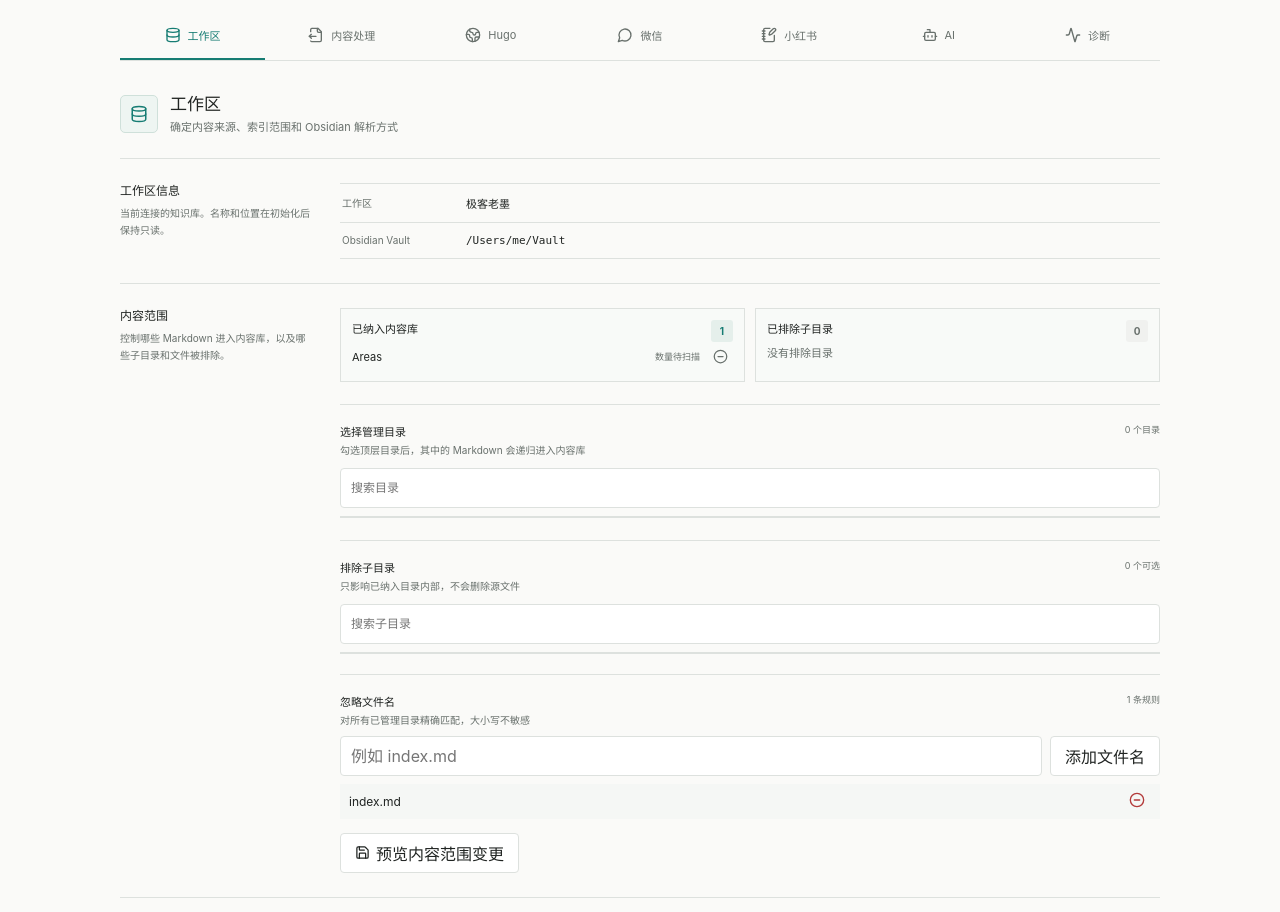
Test: AI 设置保存到 Provider 且不要求重新输入已有 Secret
Expected: the text "极客老墨" is shown, [466, 197, 510, 211]
Click the tab "AI": point(938, 36) [866, 12, 1011, 60]
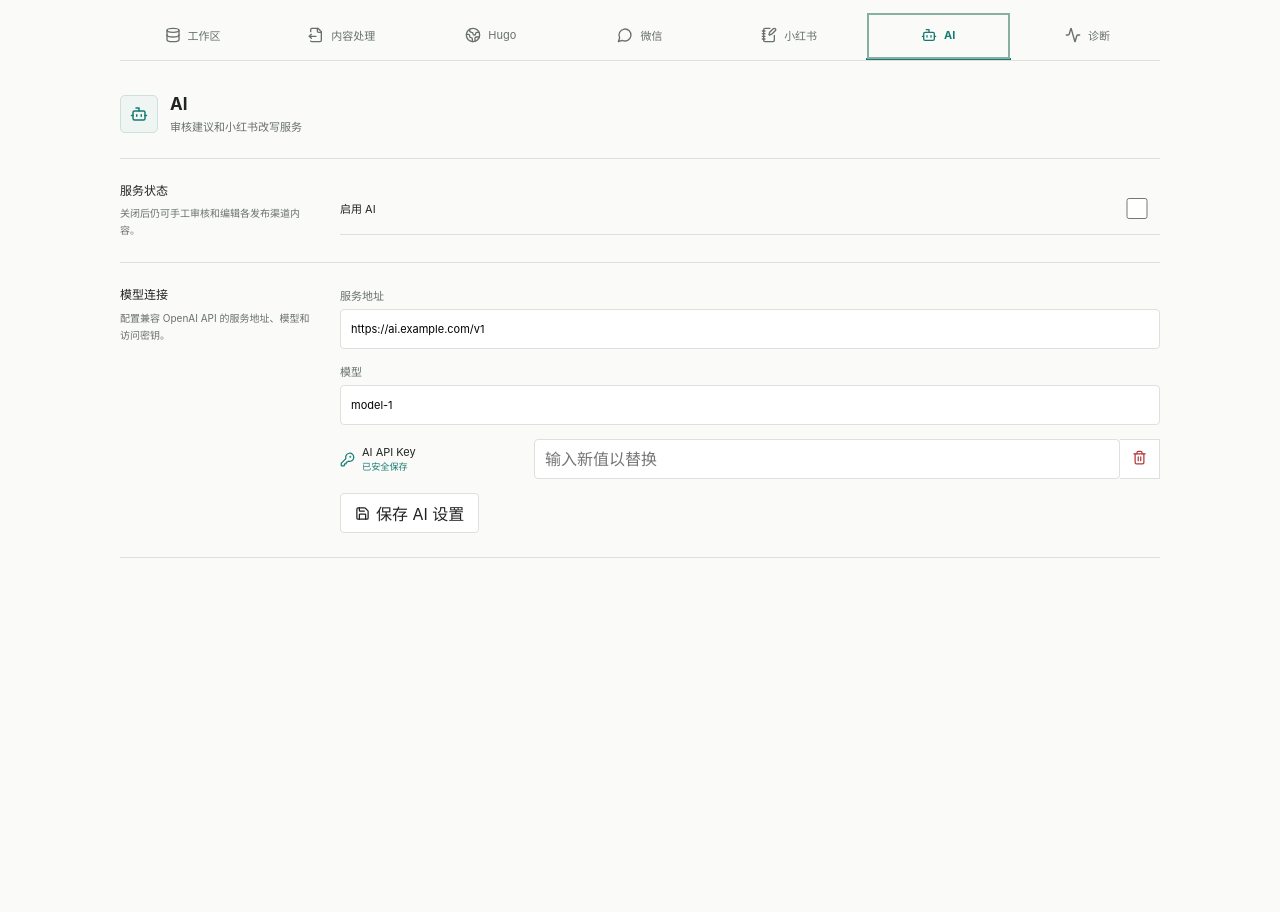
Click the checkbox labelled "启用 AI": point(1137, 208) [1117, 198, 1157, 219]
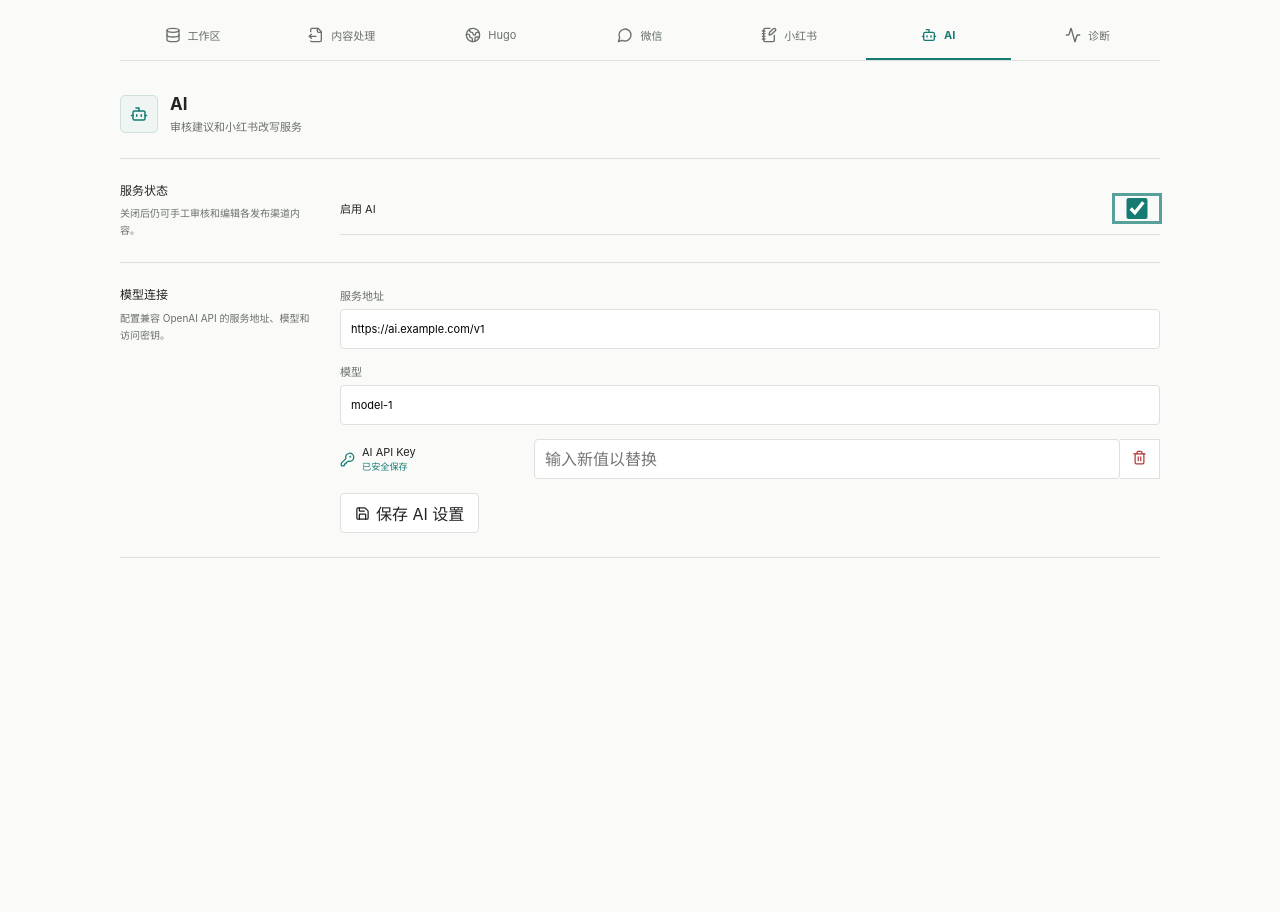
Click the button "保存 AI 设置": point(410, 513) [340, 493, 479, 533]
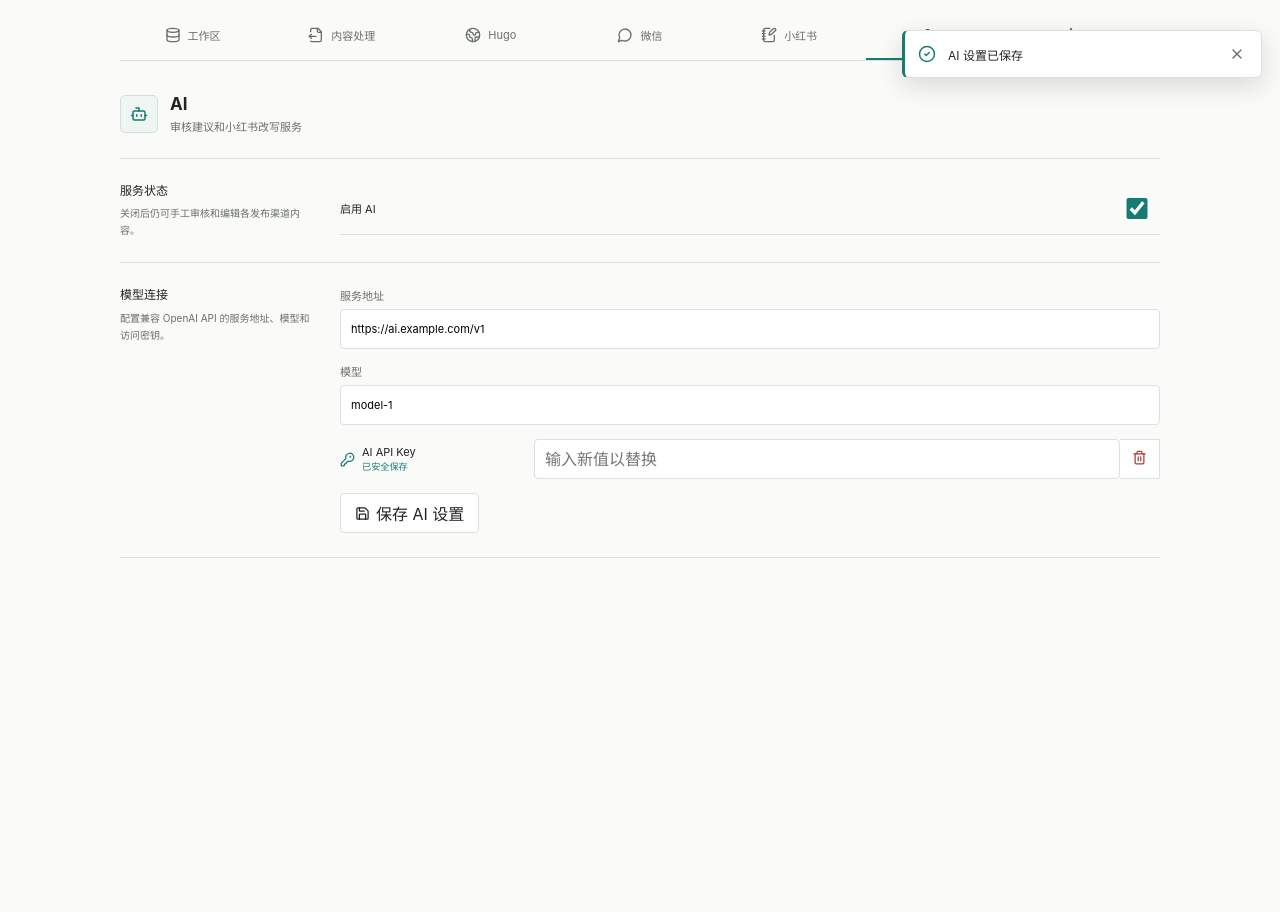
Now the message reads "AI 设置已保存", box [948, 48, 1023, 62]
